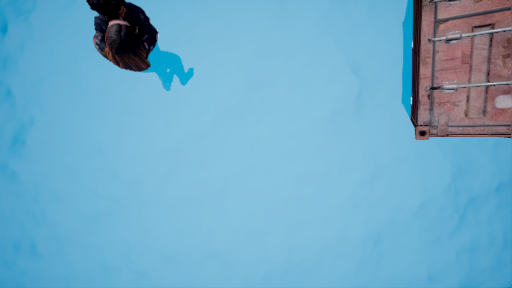person: (79, 5, 194, 92)
